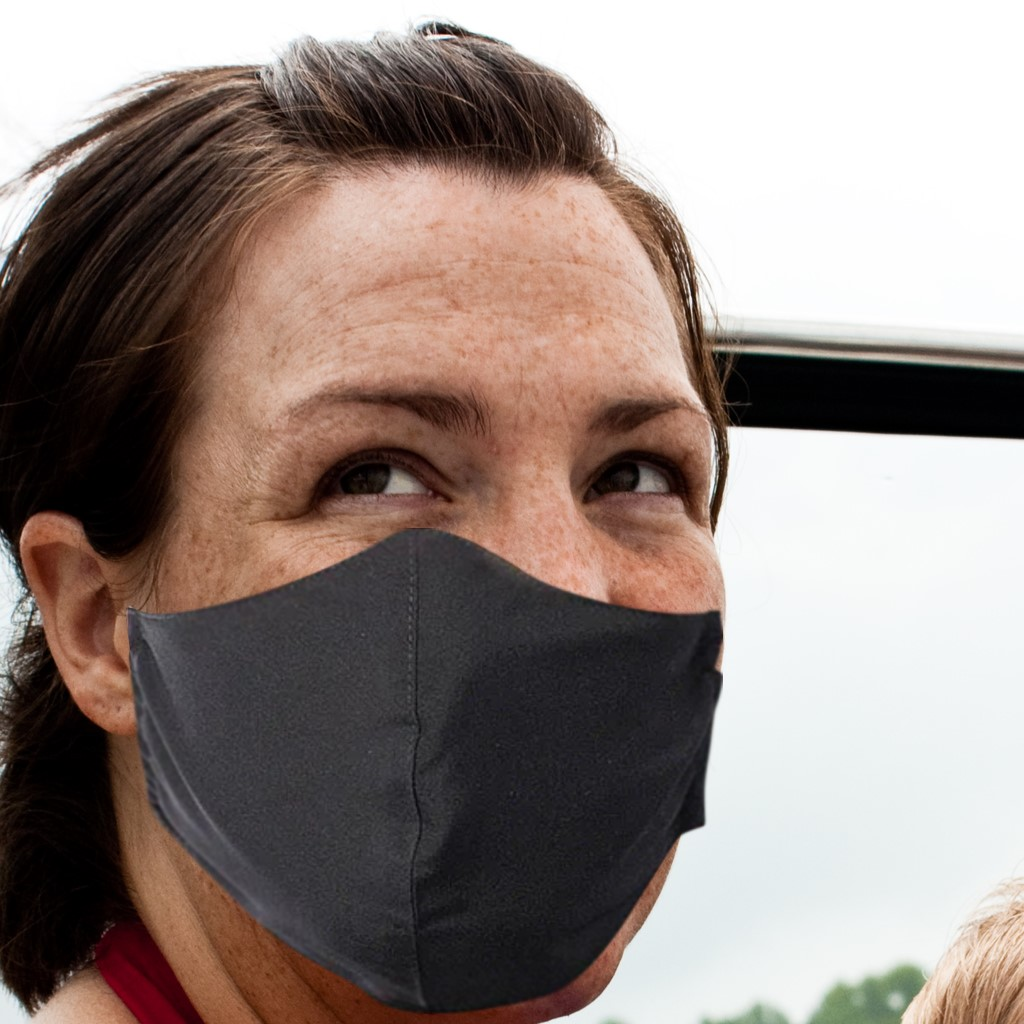con_mascara: (131, 180, 740, 1003)
